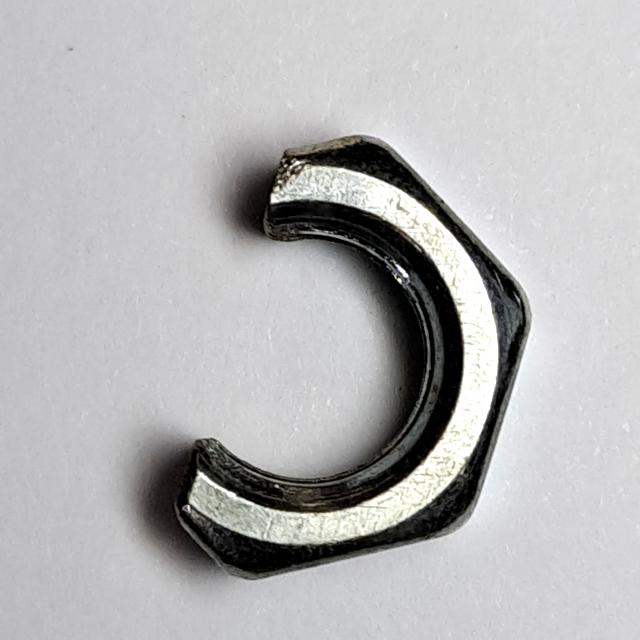Fracture: (156, 126, 541, 593)
